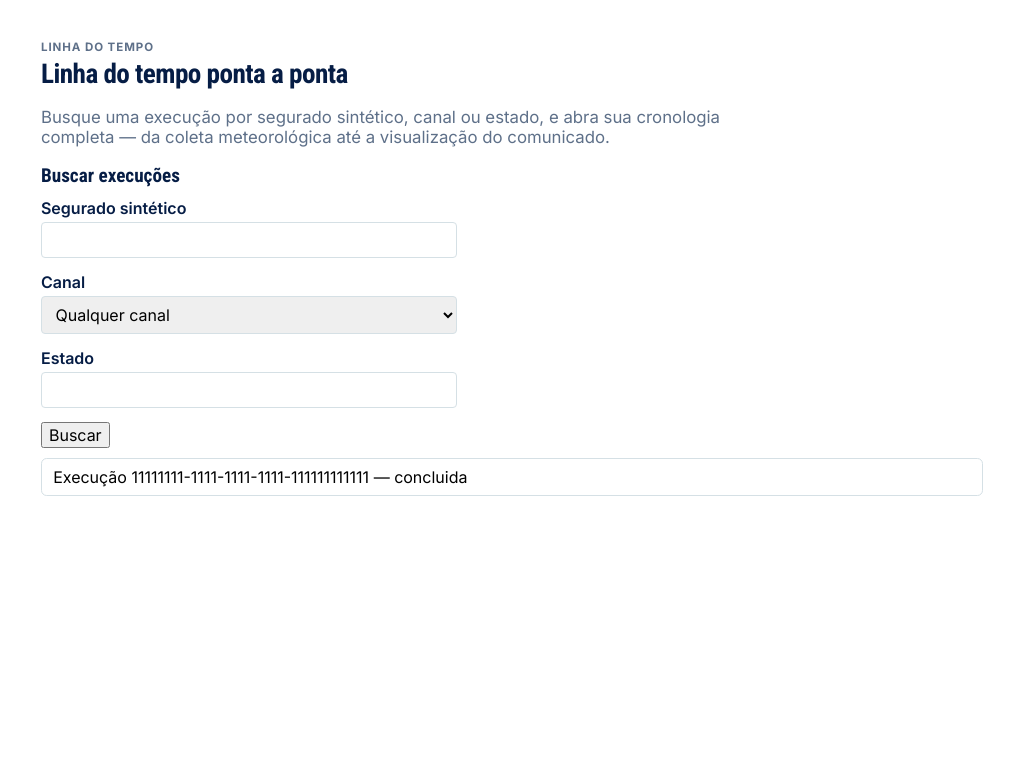
Test: agrupamento por mensagem (TIMELINE-02) › agrupa os marcos de cada mensagem, mantendo a ordem cronológica geral entre grupos
Click the button "Execução 11111111-1111-1111-1111-111111111111 — concluida".
click(92, 477)  # box x1=41 y1=458 x2=983 y2=496
(page scrolled)
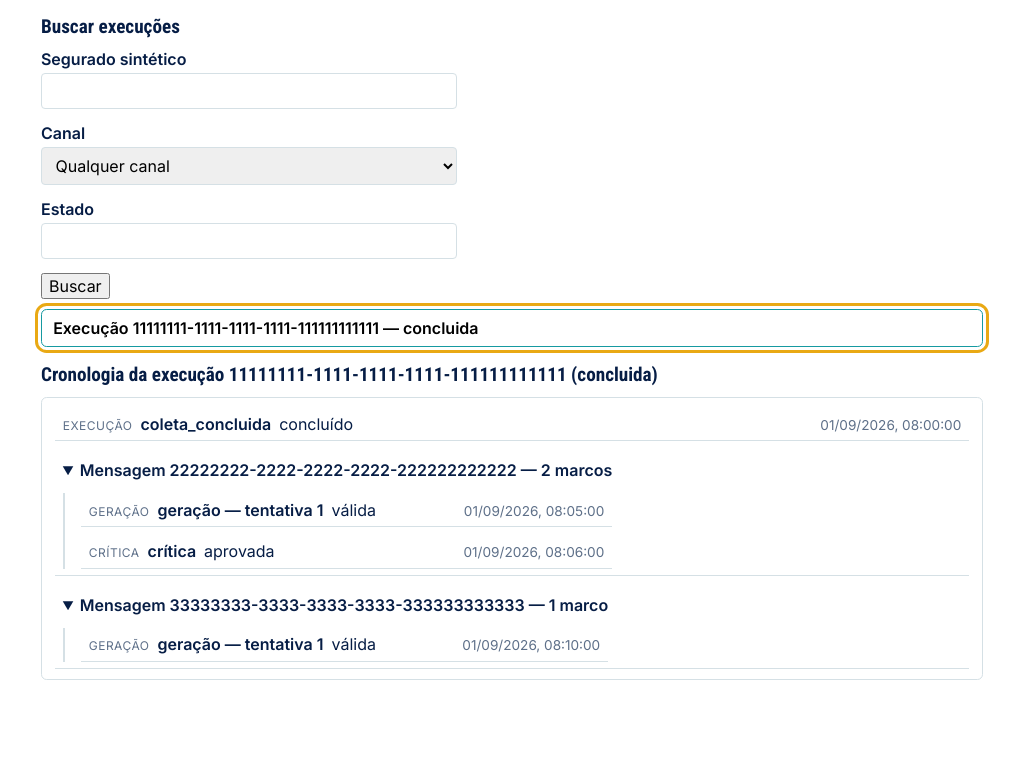
Now the heading "Mensagem 22222222-2222-2222-2222-222222222222 — 2 marcos" is shown, box x1=63 y1=456 x2=612 y2=485
Now the heading "Mensagem 33333333-3333-3333-3333-333333333333 — 1 marco" is shown, box x1=63 y1=590 x2=608 y2=620
